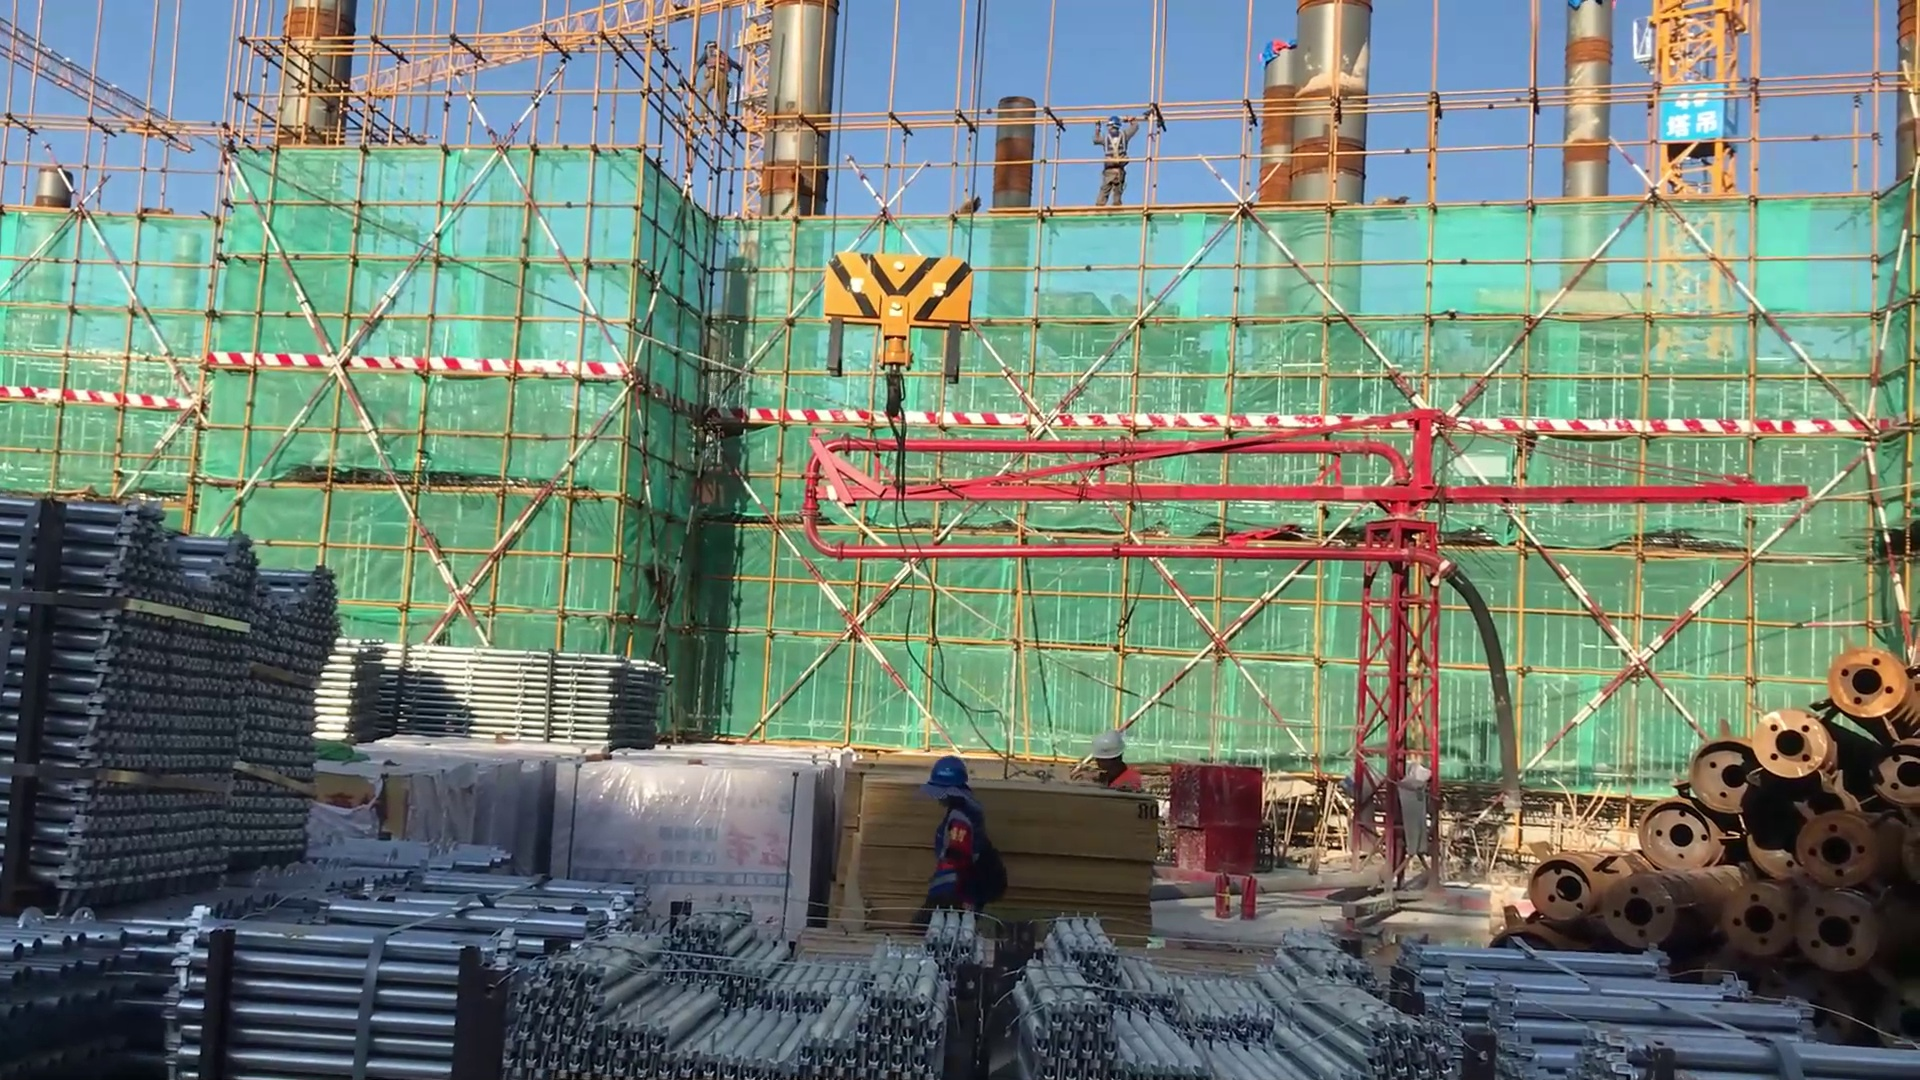board: (848, 770, 1155, 933)
helmet: (920, 741, 984, 805), (1075, 724, 1147, 777), (1104, 116, 1127, 135)
hook: (815, 252, 984, 439)
person: (923, 753, 1008, 958), (1045, 731, 1154, 812), (1092, 110, 1143, 220)
scaffold: (1, 494, 368, 885), (238, 835, 623, 1080), (520, 892, 952, 1080), (1387, 934, 1916, 1080), (1000, 914, 1433, 1080), (1, 870, 255, 1068), (313, 631, 666, 746)
slogan: (1672, 82, 1722, 149)
vest: (928, 804, 987, 920), (1104, 766, 1147, 803), (1100, 134, 1131, 168)
